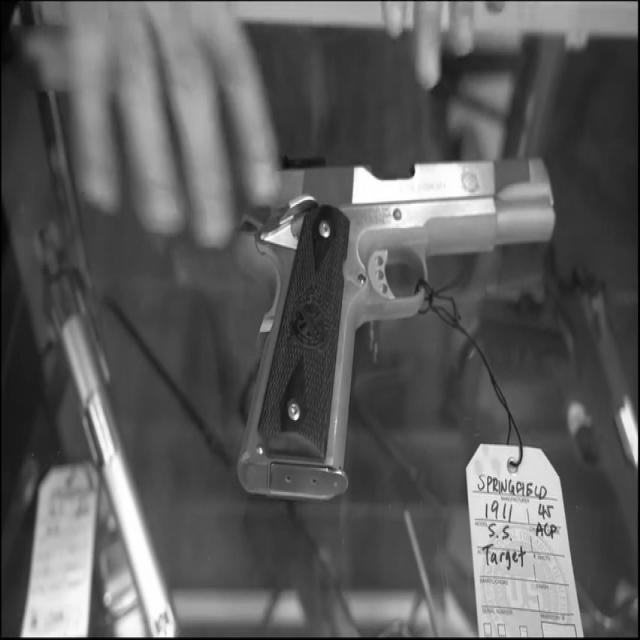Hand-Gun: (230, 125, 570, 498)
